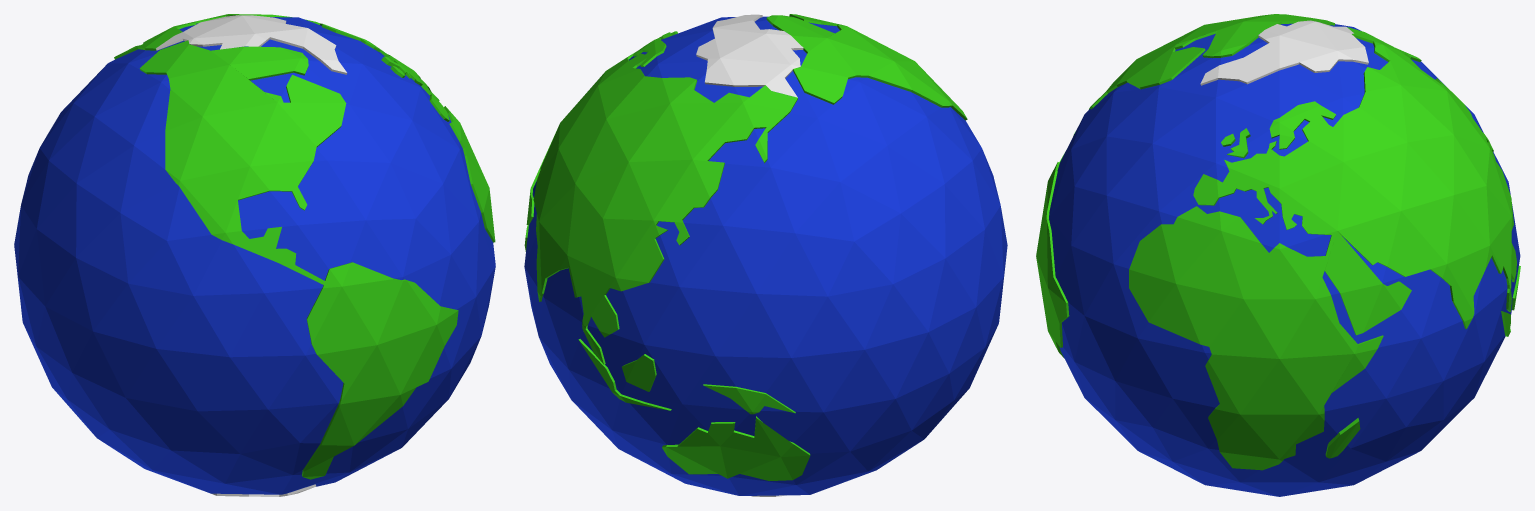
File: earth-transformed.glb
3 views of the same model, side by side, from view 1: azimuth 30°, elevation 25°; view 2: azimuth 150°, elevation 25°; view 3: azimuth 270°, elevation 25° (orthographic).
Visible parts, largest first — view 1: Icosphere.001; view 2: Icosphere.001; view 3: Icosphere.001.
Part boxes in pixels (box(x1,y1,x2,y2)): Icosphere.001: box(14, 14, 495, 496); Icosphere.001: box(524, 14, 1007, 496); Icosphere.001: box(1036, 14, 1520, 496).
Size of the model in its own units: 2.01 by 2.02 by 2.01.
